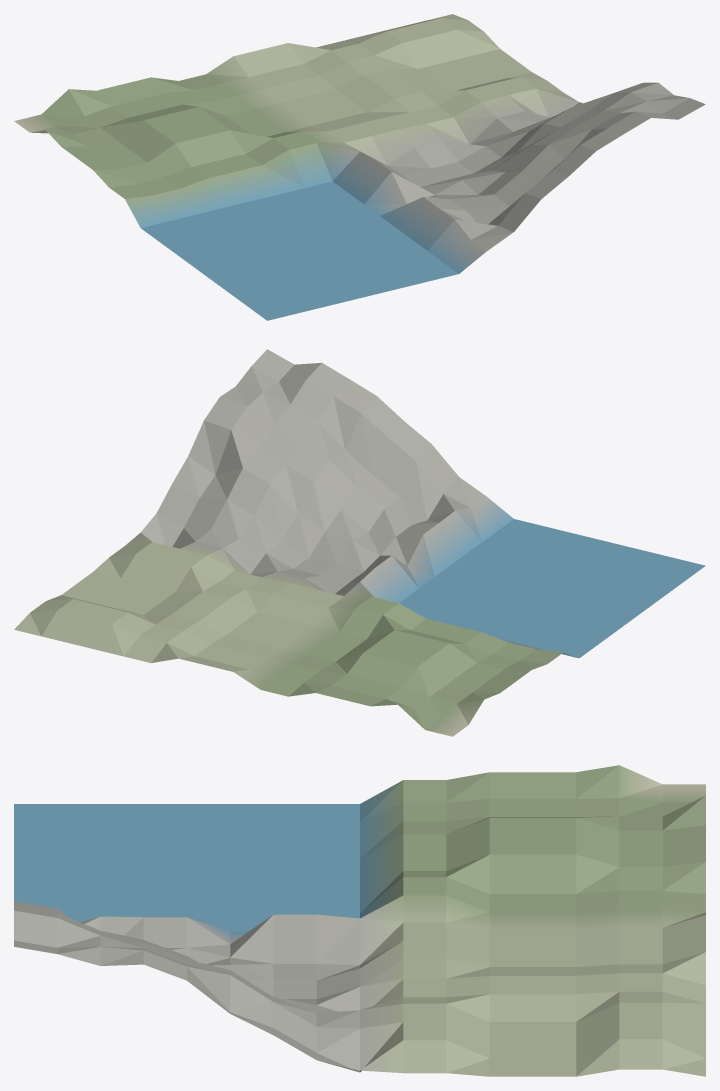
The picture shows the model from 3 angles, top to bottom: view 1: azimuth 30°, elevation 25°; view 2: azimuth 150°, elevation 25°; view 3: azimuth 270°, elevation 25°; orthographic projection. The views are drawn at different scales.
Bounding box in the file's own units: 32 × 7.63 × 32.
